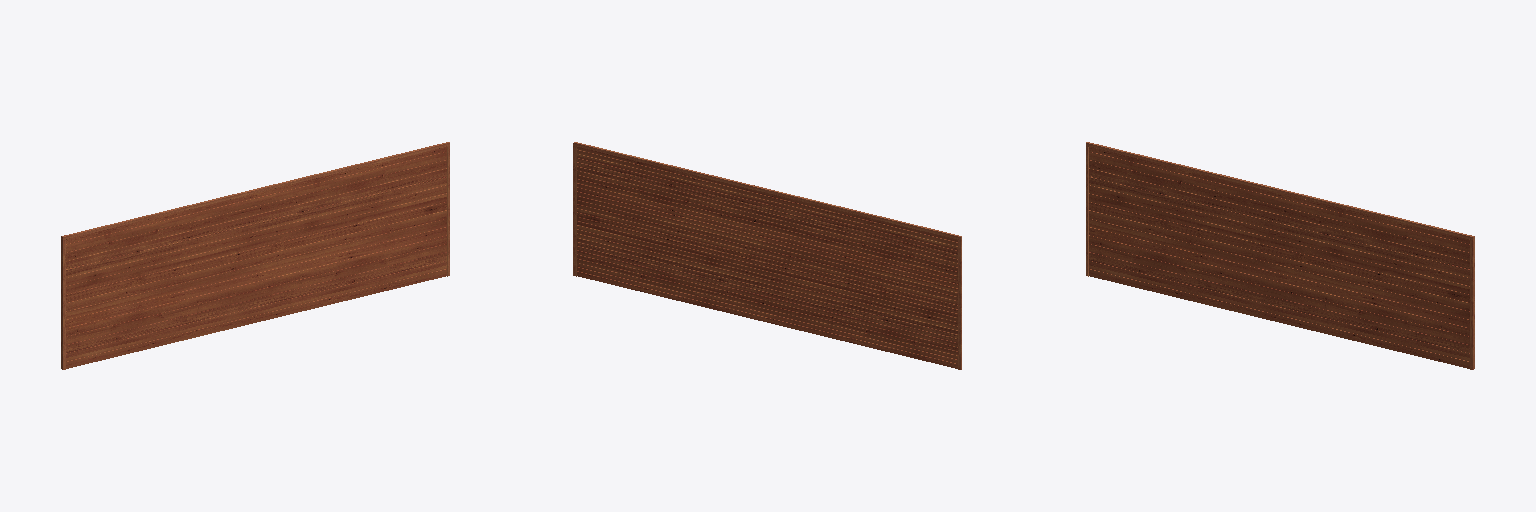
The picture shows the model from 3 angles: view 1: azimuth 30°, elevation 25°; view 2: azimuth 150°, elevation 25°; view 3: azimuth 330°, elevation 25°; orthographic projection.
Visible parts, largest first — view 1: wall_planks, trim_top, trim_left; view 2: wall_planks, trim_top; view 3: wall_planks, trim_top, trim_right.
Boxes of the visible parts, <box> form: wall_planks: <box>66,147,446,368</box>; trim_top: <box>61,142,449,239</box>; trim_left: <box>61,239,65,369</box>; wall_planks: <box>577,147,957,368</box>; trim_top: <box>573,142,961,239</box>; wall_planks: <box>1089,147,1469,368</box>; trim_top: <box>1086,142,1474,239</box>; trim_right: <box>1470,239,1474,369</box>.
Bounding box in the file's own units: 288 × 94.5 × 1.82.
2 materials, 2 textured.